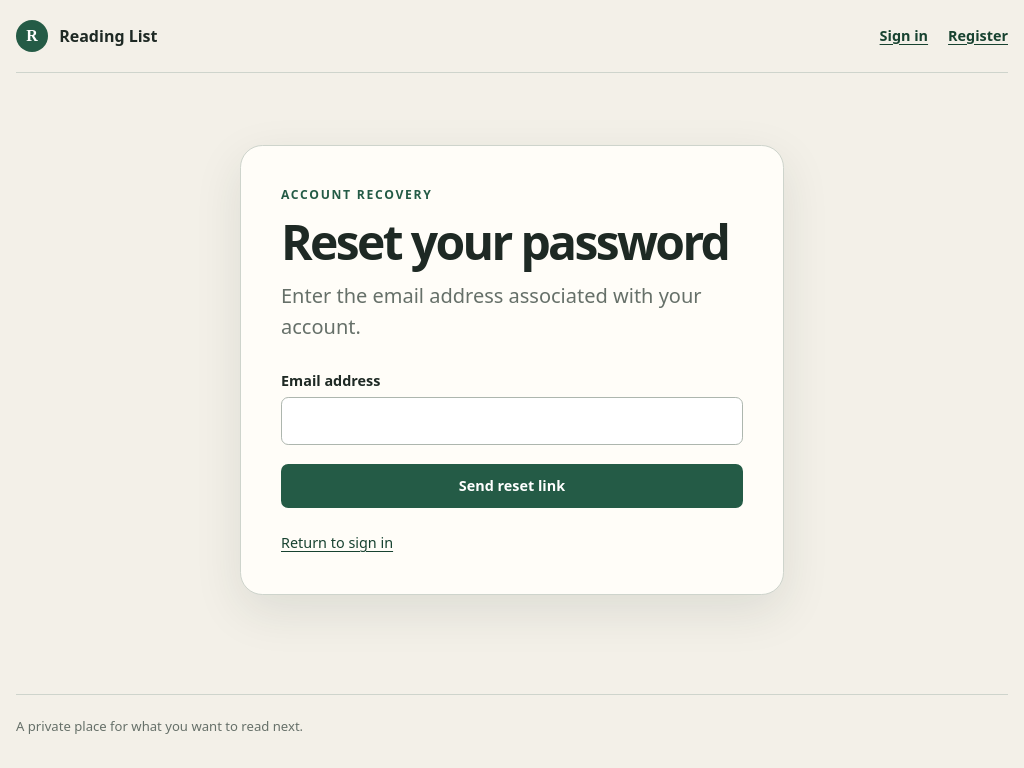
Test: account lifecycle › shows the same accepted recovery state without revealing account existence
The width and height of the screenshot is (1024, 768).
Check: the heading "Reset your password" is shown, box left=281, top=216, right=743, bottom=266
In the field labelled "Email address": coordinates (512, 422) left=281, top=398, right=743, bottom=446, type "unknown@example.test"
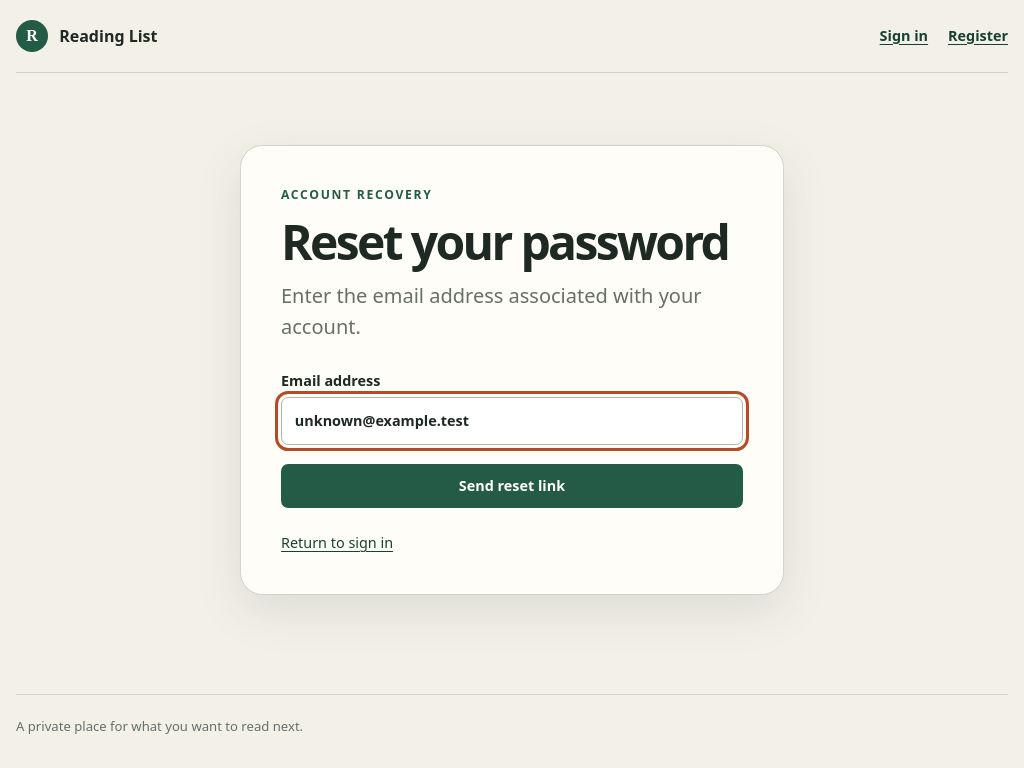
Click the button "Send reset link": coordinates (512, 486) left=281, top=464, right=743, bottom=508
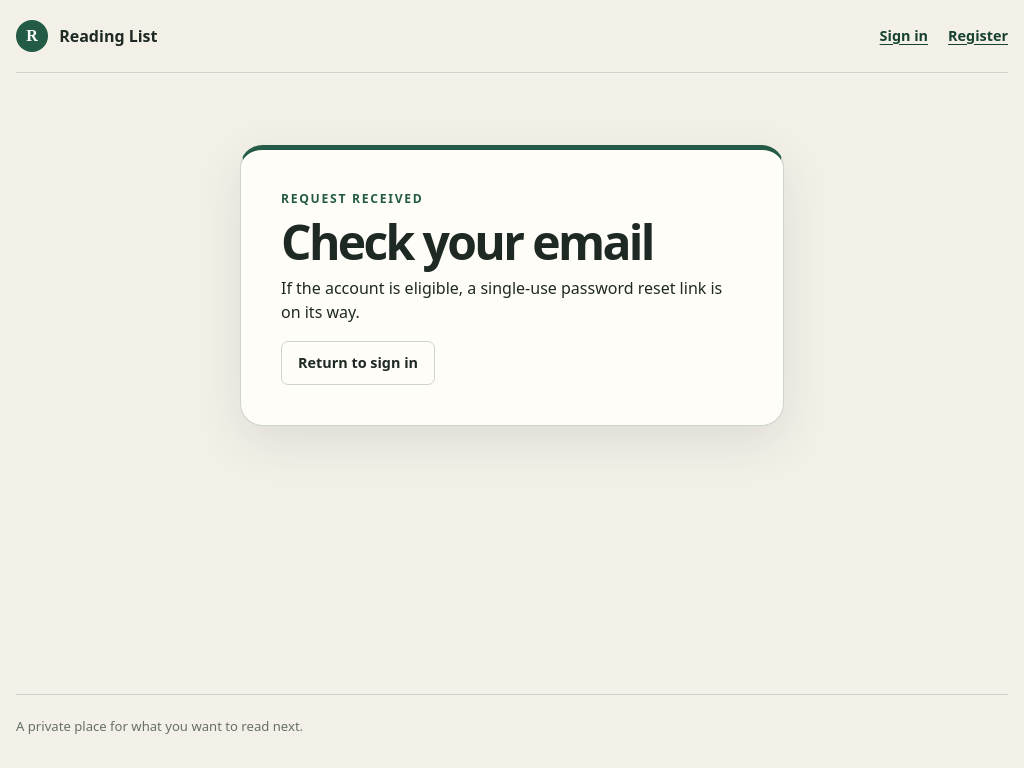
Check: the heading "Check your email" is shown, box left=281, top=208, right=653, bottom=274
Check: the text "If the account is eligible" is shown, box left=281, top=276, right=722, bottom=323
